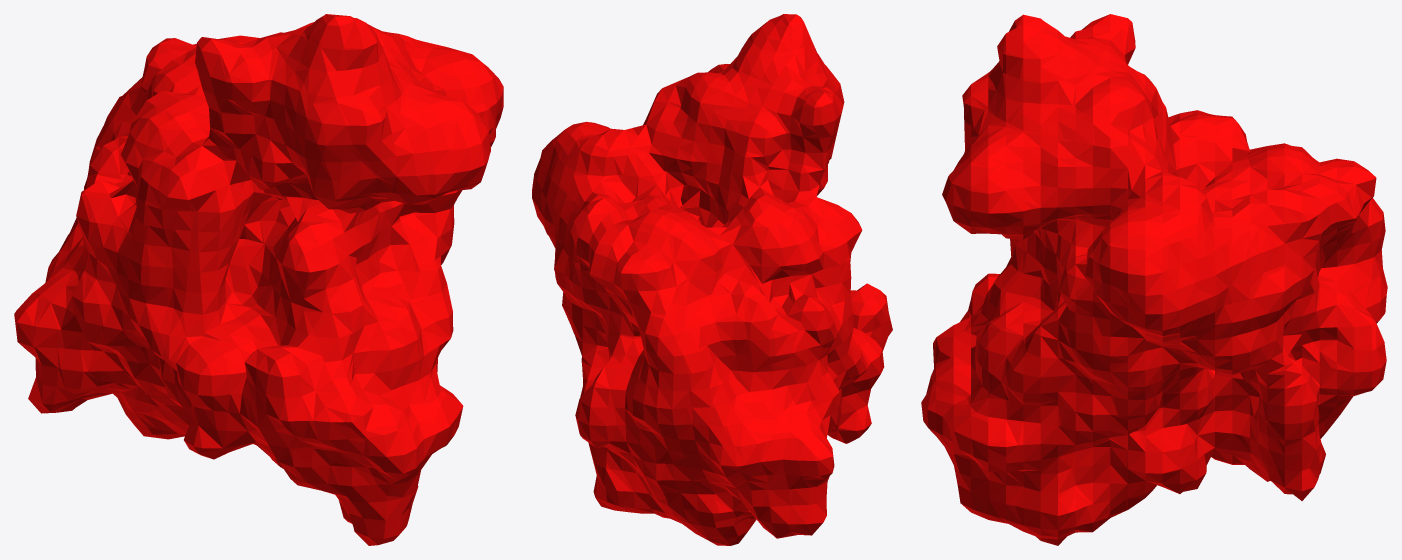
The model's file is yidC_coarse.dae.
3 renders of one model, left to right at view 1: azimuth 30°, elevation 25°; view 2: azimuth 150°, elevation 25°; view 3: azimuth 270°, elevation 25°, orthographic. The views are drawn at different scales.
Visible parts, largest first — view 1: yidC; view 2: yidC; view 3: yidC.
Boxes of the visible parts, <box> form: yidC: <box>14,14,503,545</box>; yidC: <box>532,14,892,545</box>; yidC: <box>921,14,1387,545</box>.
Size of the model in its own units: 100 by 125 by 104.
